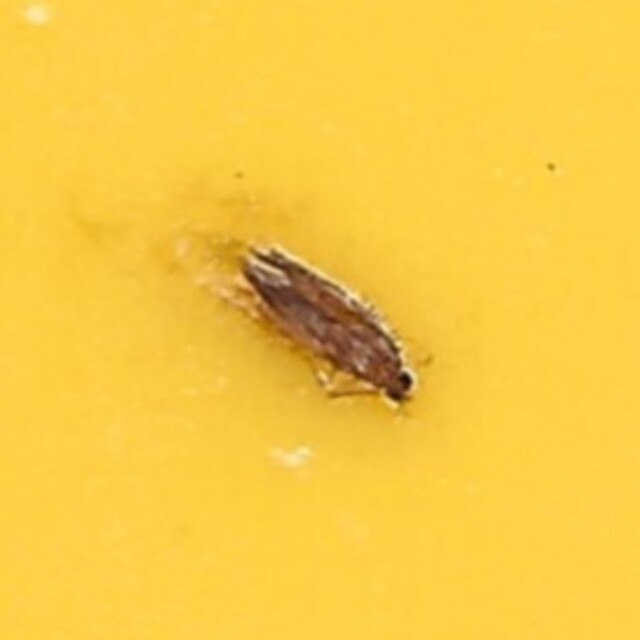Trichoptera: (230, 233, 410, 407)
